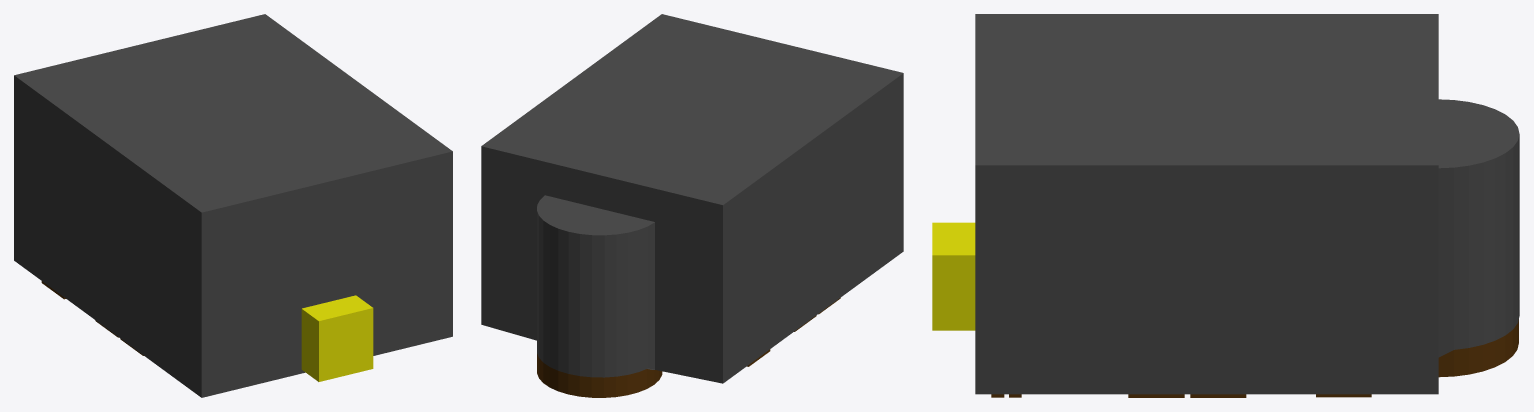
Rendered from LargeRoom.fbx.
The picture shows the model from 3 angles, left to right: view 1: azimuth 30°, elevation 25°; view 2: azimuth 150°, elevation 25°; view 3: azimuth 270°, elevation 25°; orthographic projection. The views are drawn at different scales.
Visible parts, largest first — view 1: Church, Door.001; view 2: Church, Cylinder.004; view 3: Church, Door.001, Cylinder.004.
Boxes of the visible parts, x1,y1,x2,y2 form: Church: (14,14,452,397); Door.001: (301,295,373,381); Church: (481,14,903,383); Cylinder.004: (537,353,662,397); Church: (975,14,1519,394); Door.001: (932,222,975,330); Cylinder.004: (1438,319,1518,377).
Bounding box in the file's own units: 3020 × 2344 × 4951.
